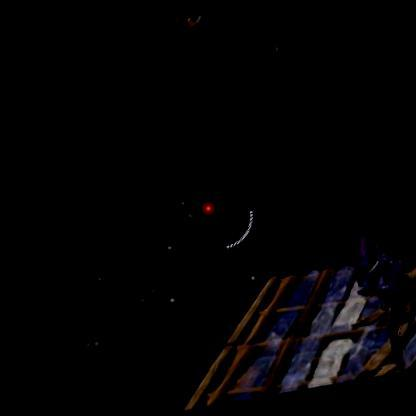person: (354, 238, 416, 341)
